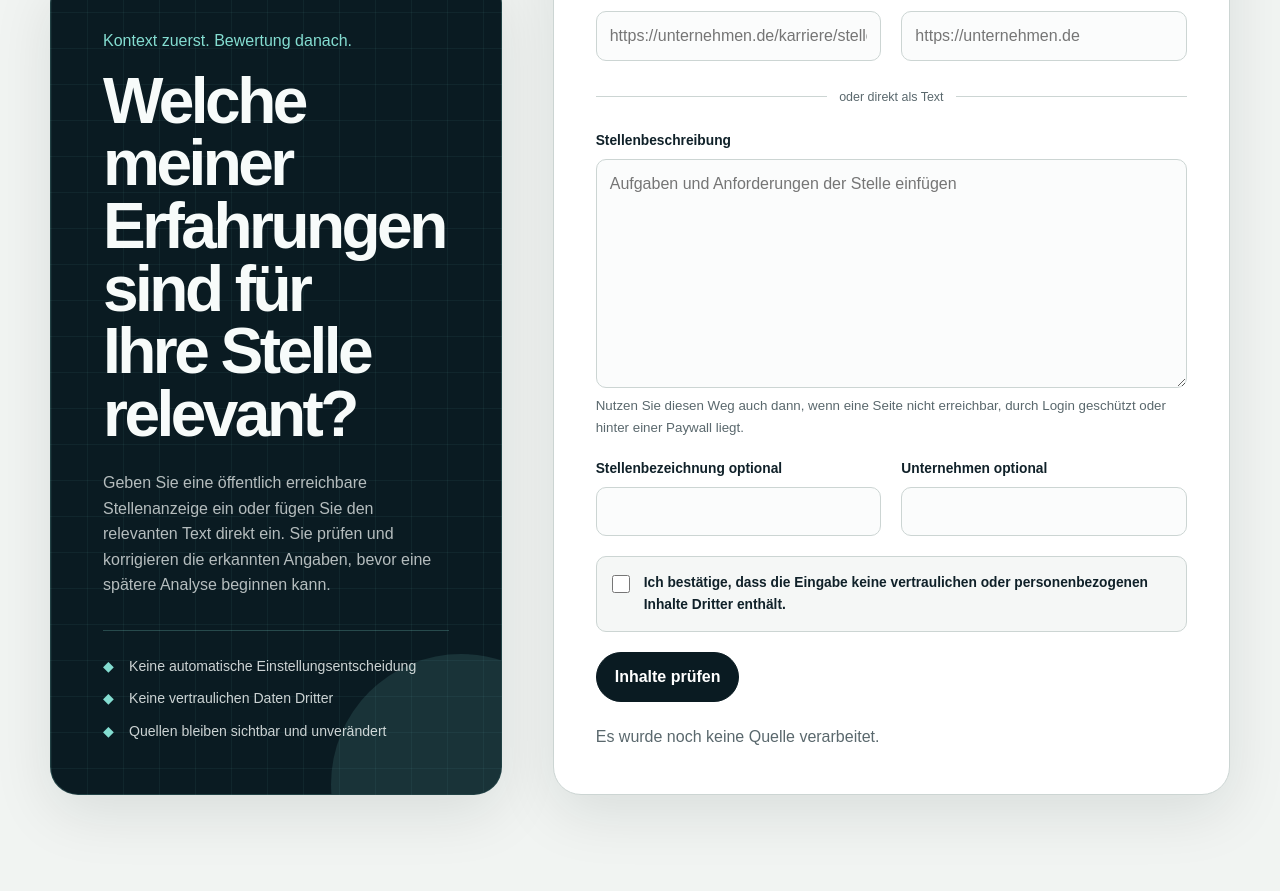
MatchContextForm › validates source and privacy confirmation before sending
(page scrolled)
Click the button "Inhalte prüfen": (668, 677) [596, 652, 740, 702]
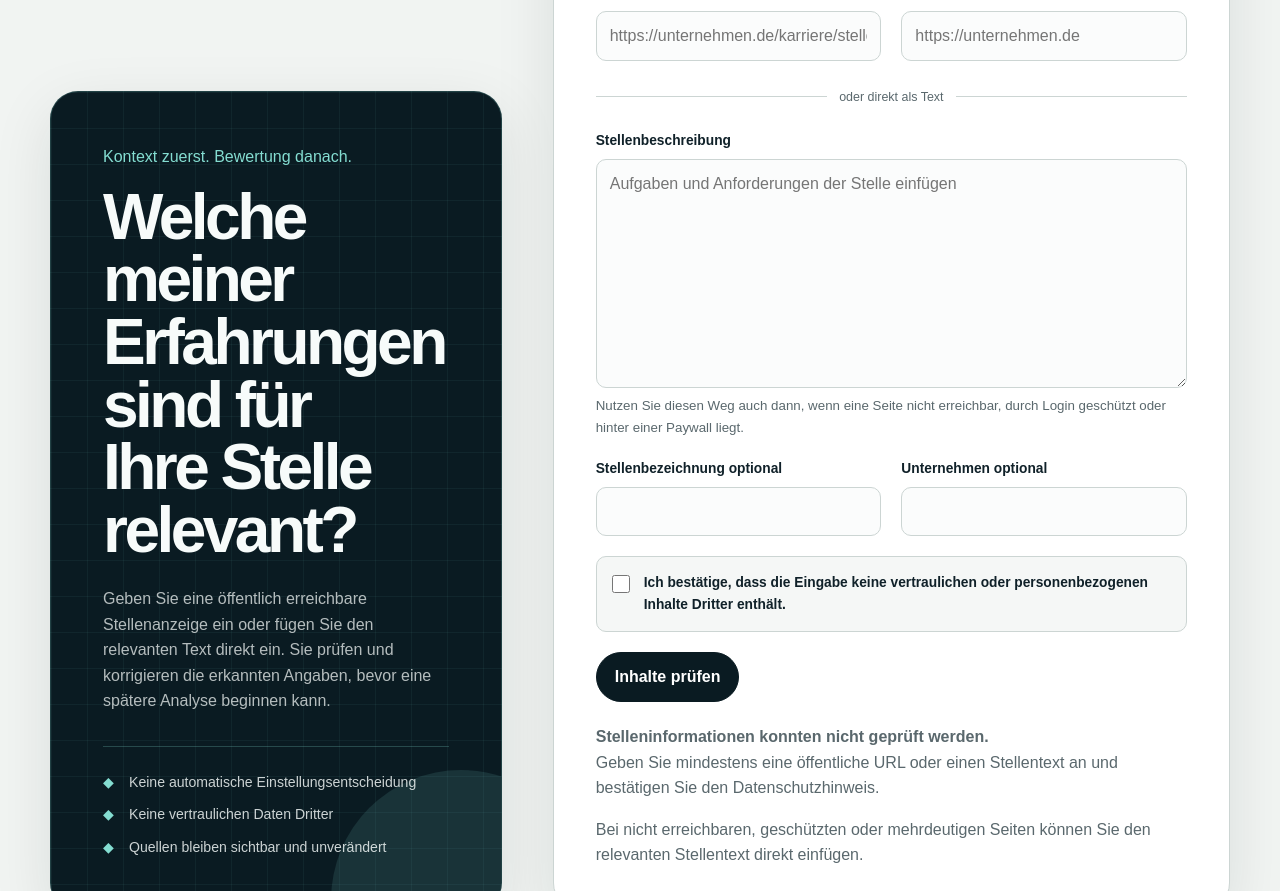
Expected: the message shows "mindestens eine öffentliche URL", [596, 754, 1118, 796]
